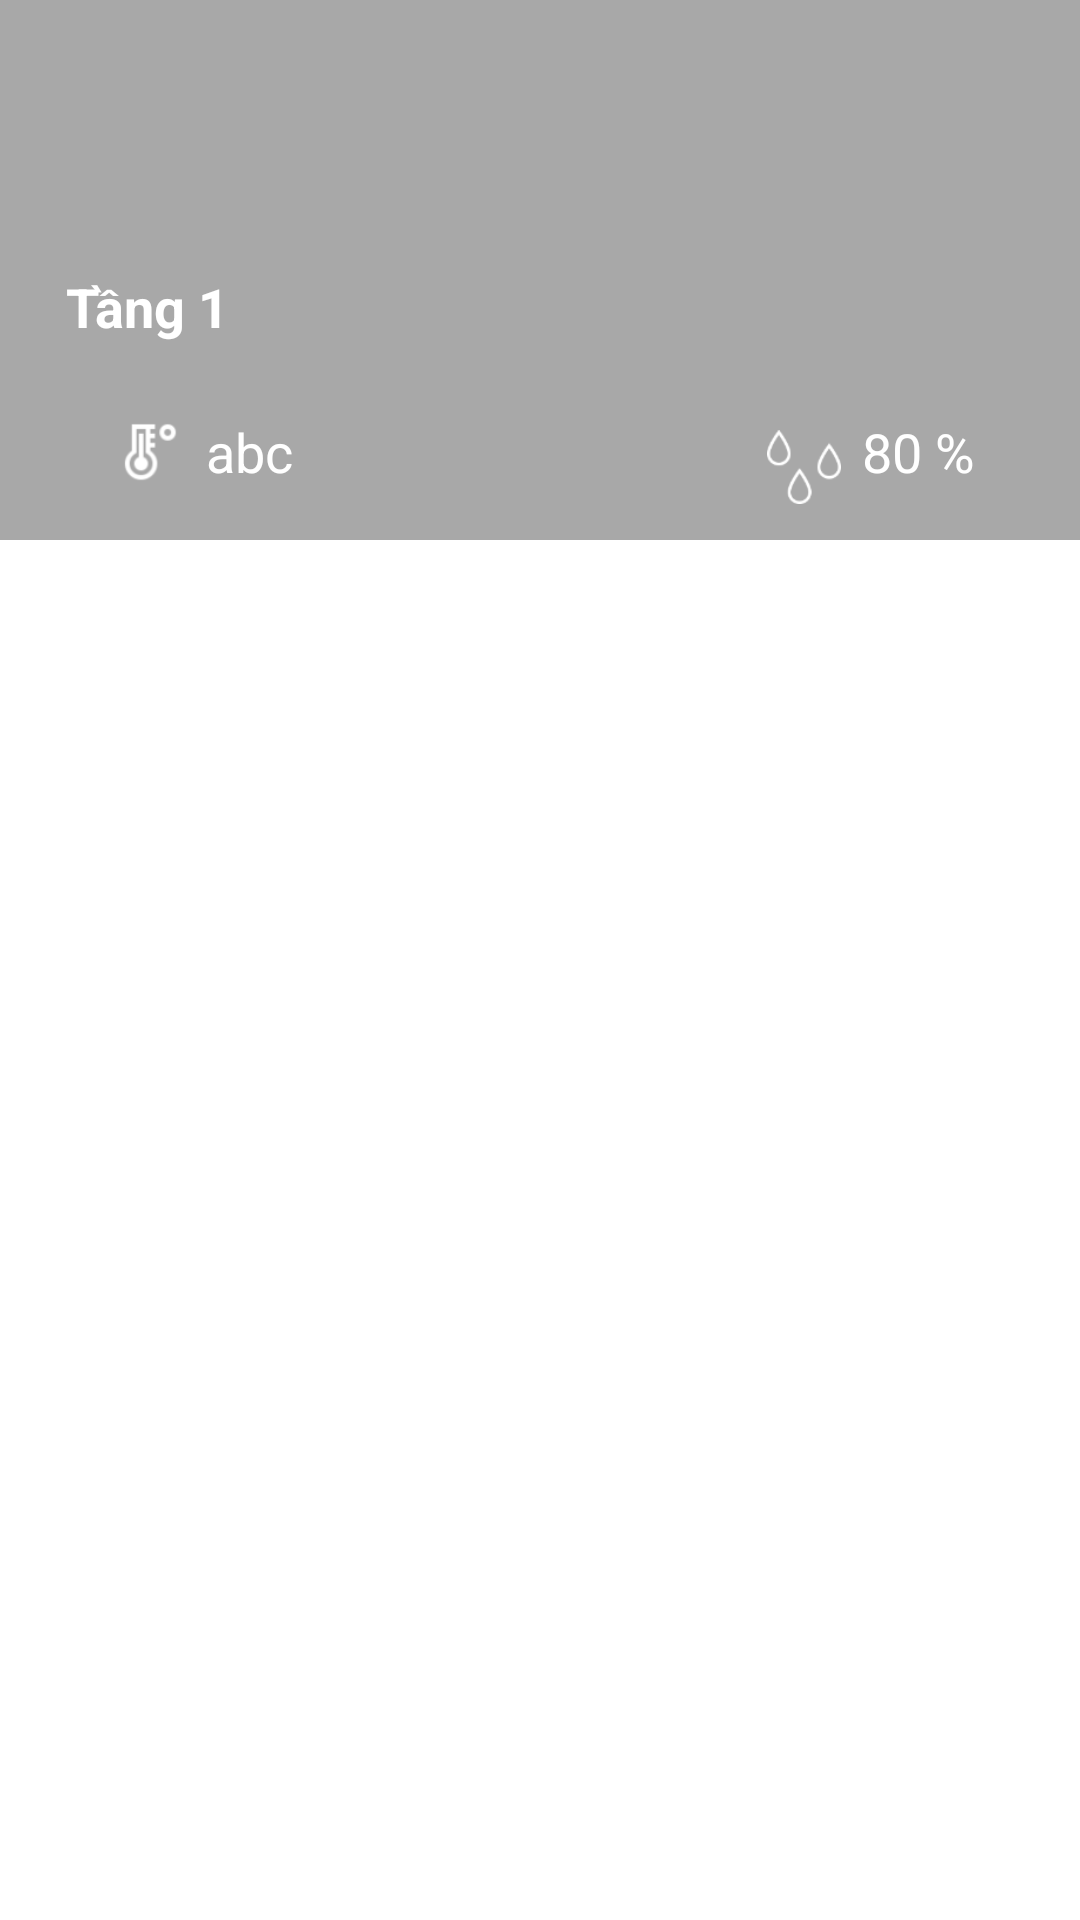

Screen size 1080×1920. Icon name, then its box in pixels as (x1, y1, x2, y2):
doam: (767, 430, 841, 504)
nhietdo: (125, 424, 176, 480)
